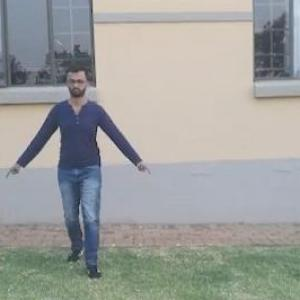land: (5, 62, 152, 279)
